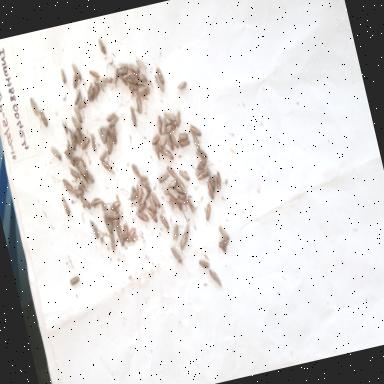pbw: (86, 214, 104, 248), (47, 142, 66, 170), (207, 267, 227, 293), (122, 226, 142, 251), (216, 222, 234, 248), (156, 212, 174, 238), (132, 93, 148, 122), (66, 271, 86, 293), (113, 58, 131, 82), (103, 134, 118, 162), (152, 72, 168, 98), (108, 195, 126, 218), (128, 104, 142, 133), (96, 123, 112, 148), (75, 157, 93, 179), (106, 123, 121, 149), (96, 33, 111, 59), (61, 175, 76, 201), (88, 80, 103, 106), (68, 60, 84, 84), (168, 223, 184, 247), (82, 164, 98, 188), (56, 64, 72, 88), (187, 122, 207, 141), (132, 181, 147, 206), (136, 208, 152, 231), (146, 192, 160, 218), (86, 129, 100, 155), (120, 72, 138, 92), (130, 198, 148, 218), (65, 166, 83, 186), (139, 173, 154, 197), (162, 106, 178, 128), (128, 162, 144, 184), (146, 207, 160, 232), (212, 168, 226, 193), (170, 243, 184, 268), (128, 83, 148, 100), (136, 80, 152, 101), (114, 226, 128, 250), (70, 87, 84, 111), (159, 144, 175, 165), (109, 70, 124, 92), (190, 158, 208, 176), (127, 59, 144, 78), (38, 107, 52, 130), (200, 202, 216, 222), (63, 148, 76, 172), (28, 96, 41, 120), (77, 170, 91, 192), (100, 206, 118, 223), (174, 126, 192, 143), (156, 168, 172, 187), (165, 184, 181, 203), (177, 164, 192, 184), (67, 131, 80, 154), (155, 63, 168, 86), (180, 222, 194, 243), (169, 132, 181, 156), (58, 118, 72, 138), (80, 194, 94, 214), (100, 216, 114, 236), (108, 230, 120, 253), (151, 192, 164, 213), (134, 56, 149, 74), (71, 186, 86, 204), (195, 146, 210, 164), (100, 159, 115, 177), (69, 115, 83, 134), (172, 110, 186, 129), (85, 82, 97, 104), (72, 105, 85, 125), (178, 136, 194, 152), (176, 236, 192, 252), (152, 115, 164, 136), (198, 256, 212, 274), (78, 136, 92, 154), (164, 134, 176, 154), (158, 118, 170, 138), (93, 80, 108, 96), (106, 115, 122, 130), (216, 238, 230, 255), (126, 186, 139, 204), (186, 198, 198, 217), (166, 194, 178, 213), (152, 145, 164, 164), (175, 78, 189, 94), (174, 183, 190, 197), (165, 124, 179, 140), (192, 132, 204, 150), (165, 165, 177, 183), (196, 170, 210, 185), (204, 180, 214, 201), (88, 196, 103, 210), (104, 109, 118, 124), (75, 95, 88, 111), (174, 195, 190, 208), (100, 74, 113, 90), (209, 172, 219, 192), (120, 222, 131, 240), (96, 150, 110, 164), (150, 132, 162, 148), (174, 195, 184, 214), (108, 218, 122, 231), (88, 68, 103, 80), (71, 74, 80, 88)
